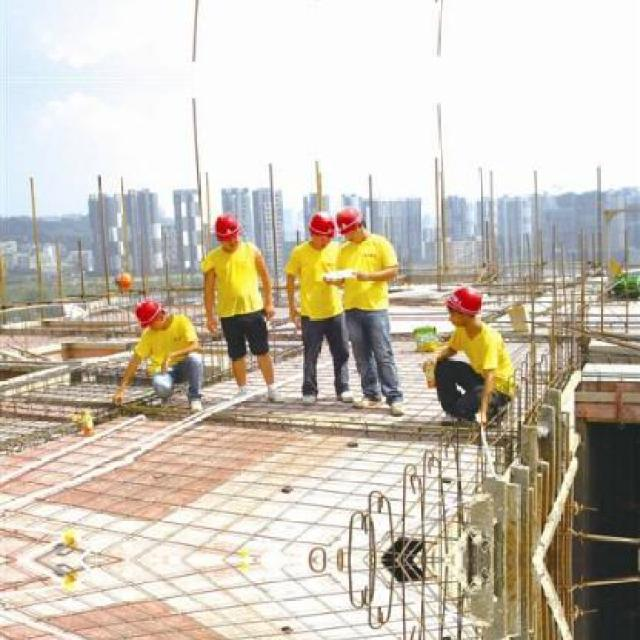helmet: (444, 284, 482, 325), (133, 297, 175, 334), (338, 206, 367, 243), (212, 214, 240, 251), (307, 208, 333, 244)
